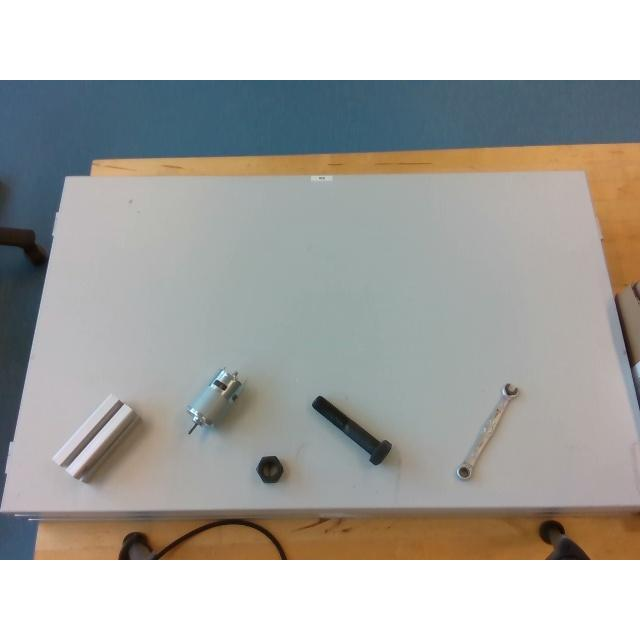M20: (257, 456, 283, 484)
M20_100: (313, 396, 392, 464)
Motor2: (184, 366, 242, 434)
S40_40_G: (52, 394, 136, 478)
Wrench: (456, 384, 518, 481)
